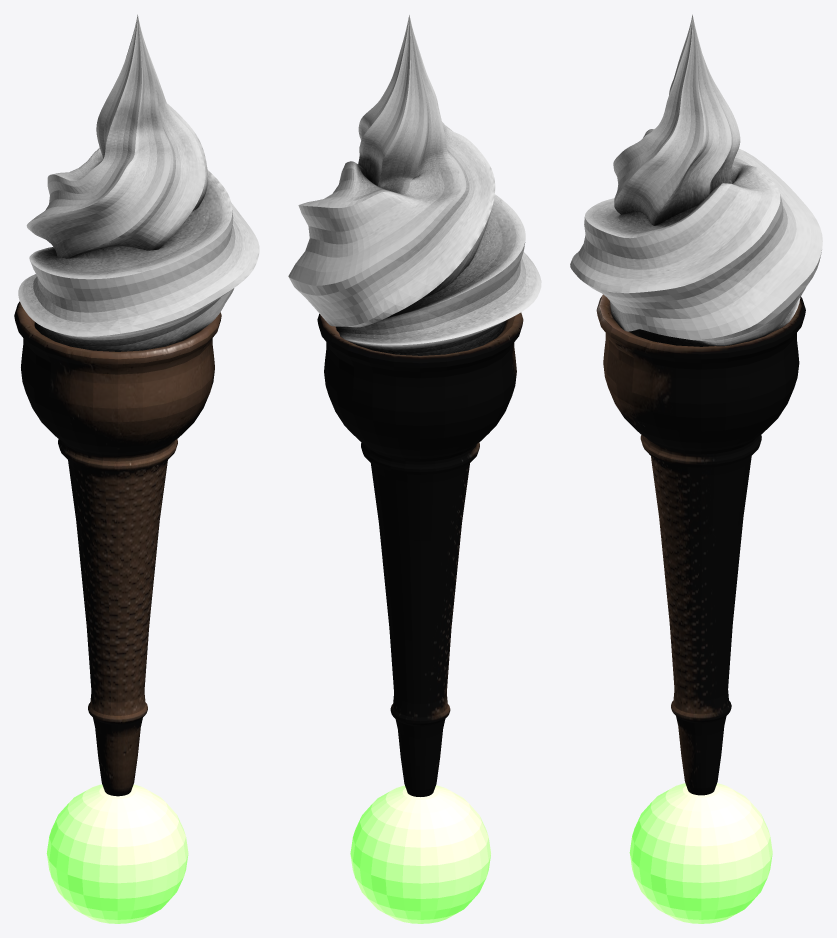
Rendered from AceCream_5.gltf.
The picture shows the model from 3 angles, left to right: view 1: azimuth 30°, elevation 25°; view 2: azimuth 150°, elevation 25°; view 3: azimuth 270°, elevation 25°; orthographic projection.
Parts seen in each view (by area): view 1: Icecream, Corneto, Sphere.1; view 2: Icecream, Corneto, Sphere.1; view 3: Icecream, Corneto, Sphere.1.
Part boxes in pixels (bbox=[...]): Icecream: bbox=[18, 14, 259, 351]; Corneto: bbox=[14, 301, 221, 796]; Sphere.1: bbox=[46, 784, 188, 923]; Icecream: bbox=[288, 15, 541, 355]; Corneto: bbox=[317, 312, 523, 796]; Sphere.1: bbox=[350, 785, 490, 923]; Icecream: bbox=[570, 14, 822, 346]; Corneto: bbox=[596, 294, 805, 795]; Sphere.1: bbox=[629, 783, 772, 923].
Size of the model in its own units: 13.8 by 57.18 by 14.37.
3 materials, 2 textured.
